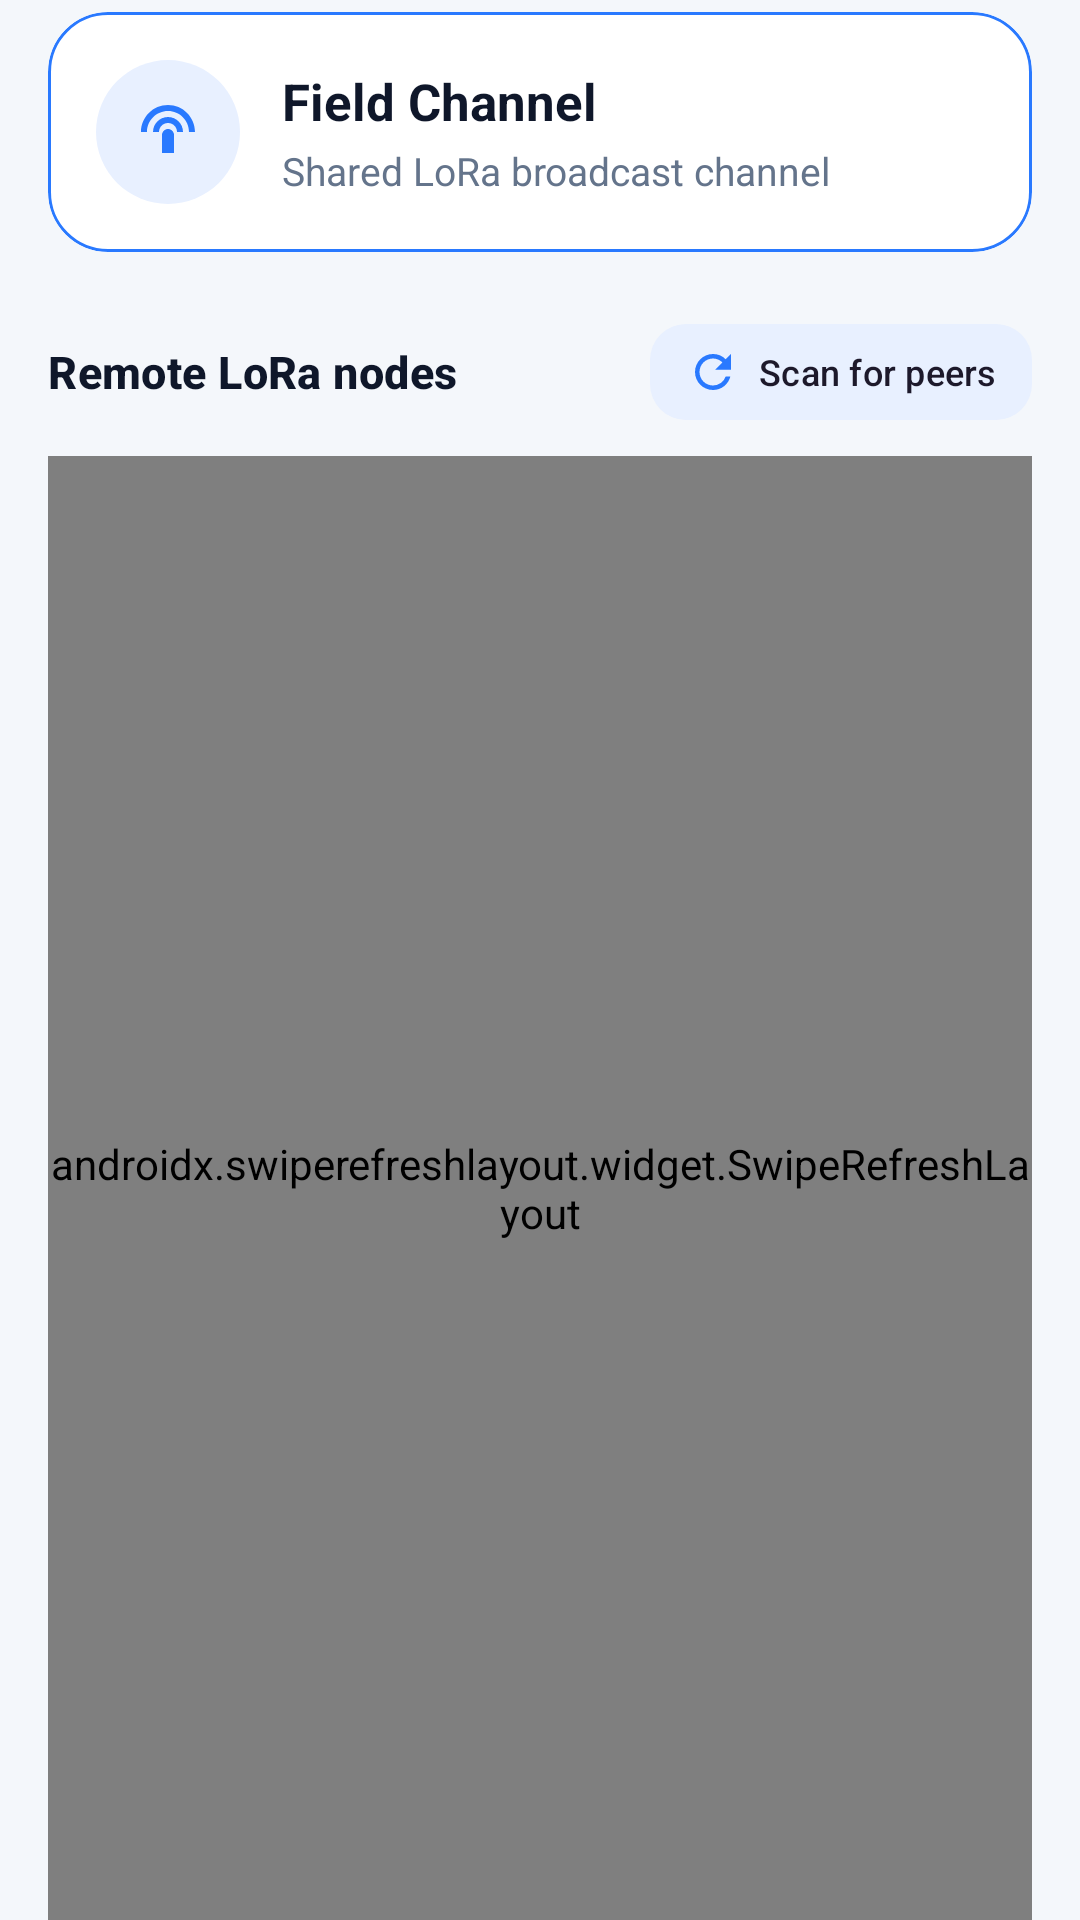

Named icons in this screenshot (1080px×1920px) and their bounding boxes, (x1, y1, x2, y2):
lora signal: (141, 105, 195, 153)
